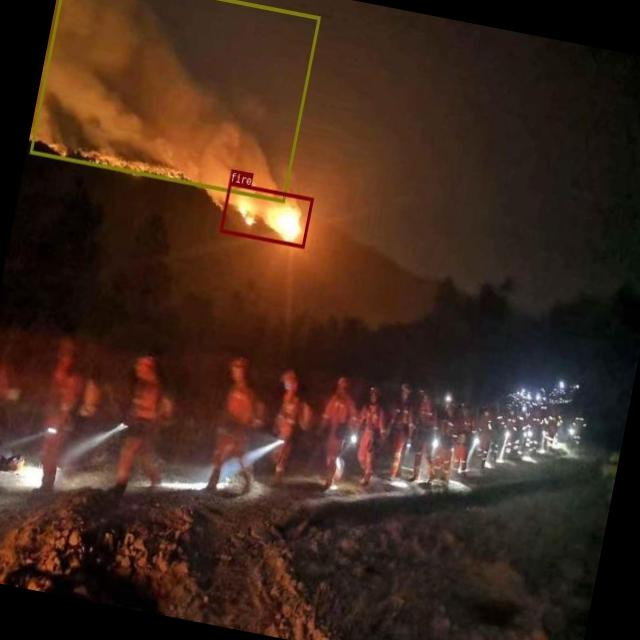fire: (219, 182, 313, 248)
smoke: (30, 0, 320, 202)
